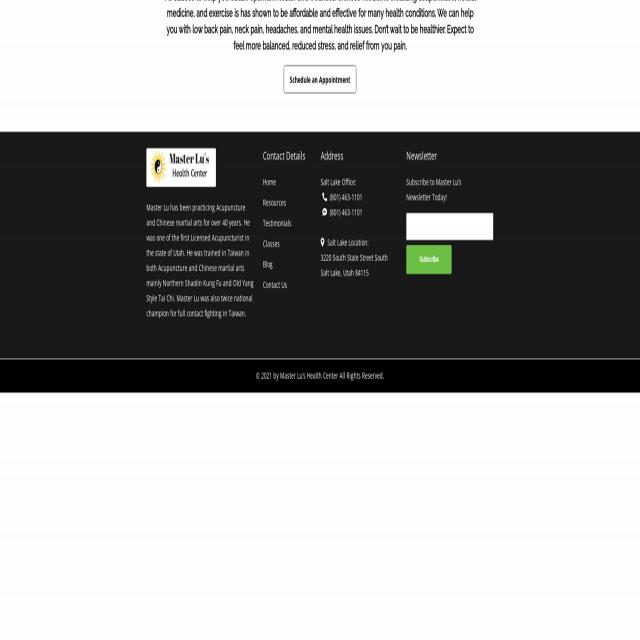button: (146, 148, 216, 187), (283, 66, 356, 92), (406, 245, 452, 274)
field: (406, 213, 494, 240)
